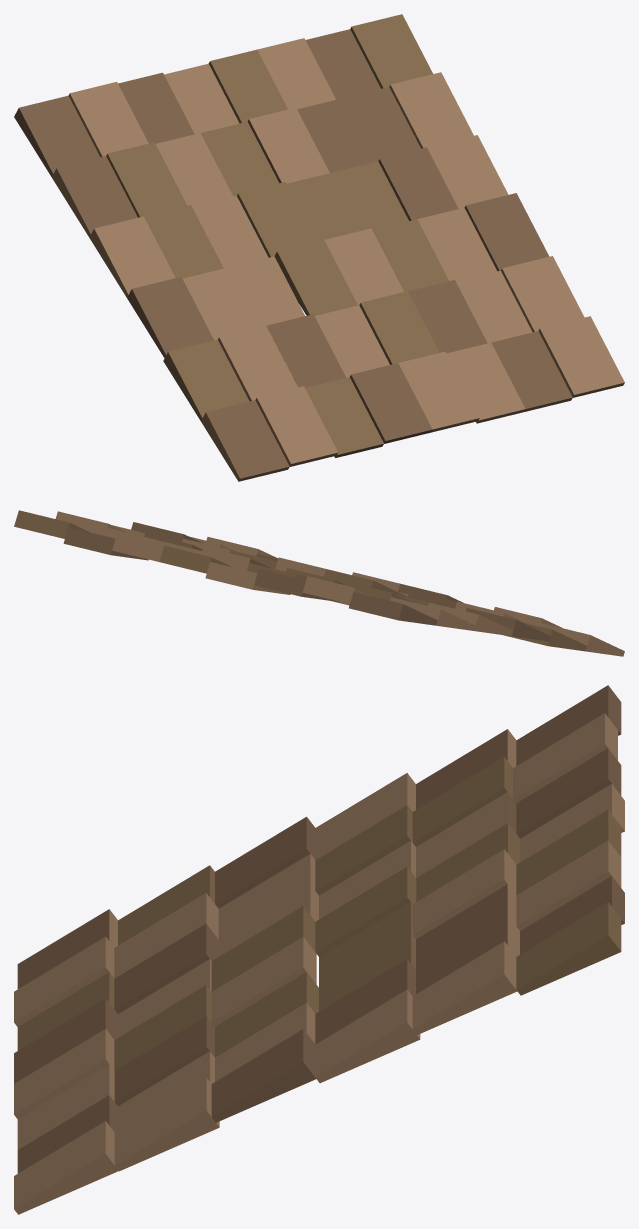
Rendered from steampunk_roof.fbx.
3 renders of one model, top to bottom at view 1: azimuth 30°, elevation 25°; view 2: azimuth 150°, elevation 25°; view 3: azimuth 270°, elevation 25°, orthographic. The views are drawn at different scales.
Visible parts, largest first — view 1: Cube.024; view 2: Cube.024; view 3: Cube.024.
Boxes of the visible parts, left/top/right/bottom form: Cube.024: left=14, top=14, right=624, bottom=481; Cube.024: left=14, top=510, right=624, bottom=656; Cube.024: left=14, top=685, right=624, bottom=1214.
Size of the model in its own units: 3.01 by 1.62 by 3.11.
